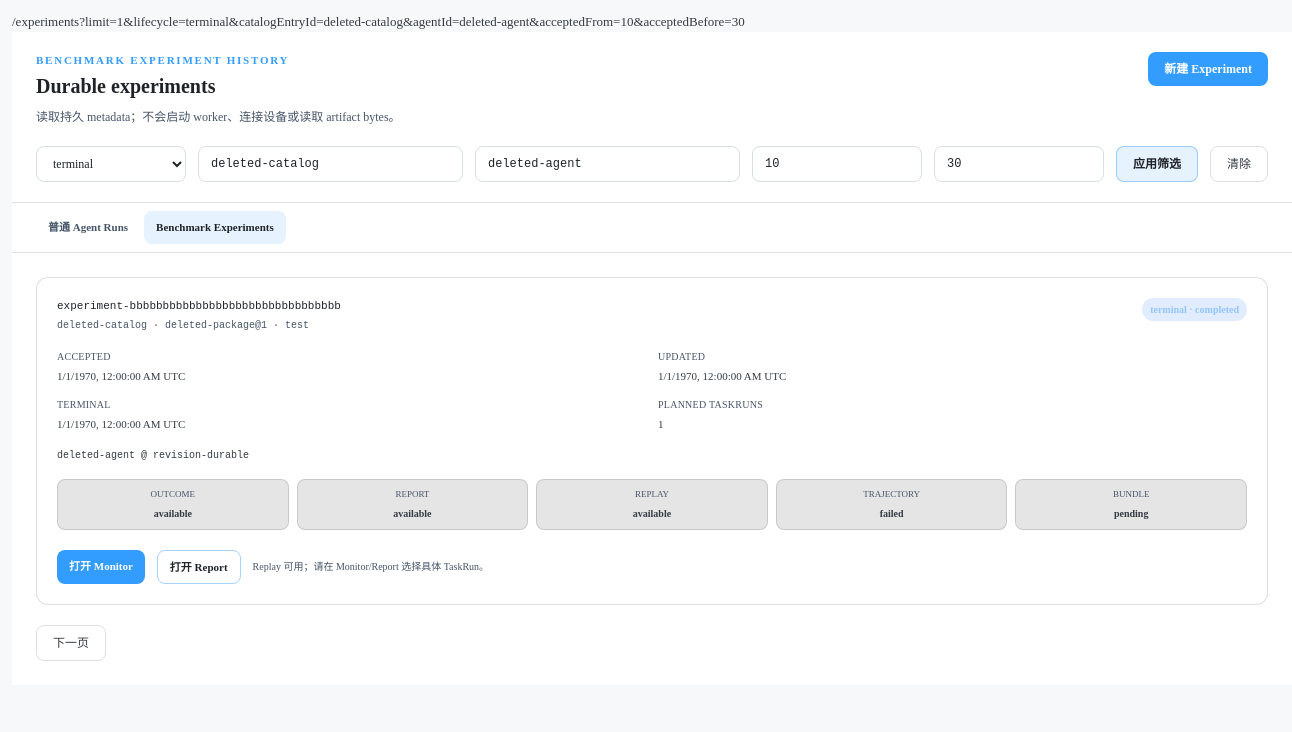
Test case: Experiment History page › reconstructs filters, preserves durable deleted identities, and paginates
Expected: the text "deleted-catalog" is shown, [79, 14, 745, 29]
Expected: the text "deleted-agent @ revision-durable" is shown, [57, 450, 249, 461]
Click the button "下一页" at (71, 643), box [36, 625, 106, 661]
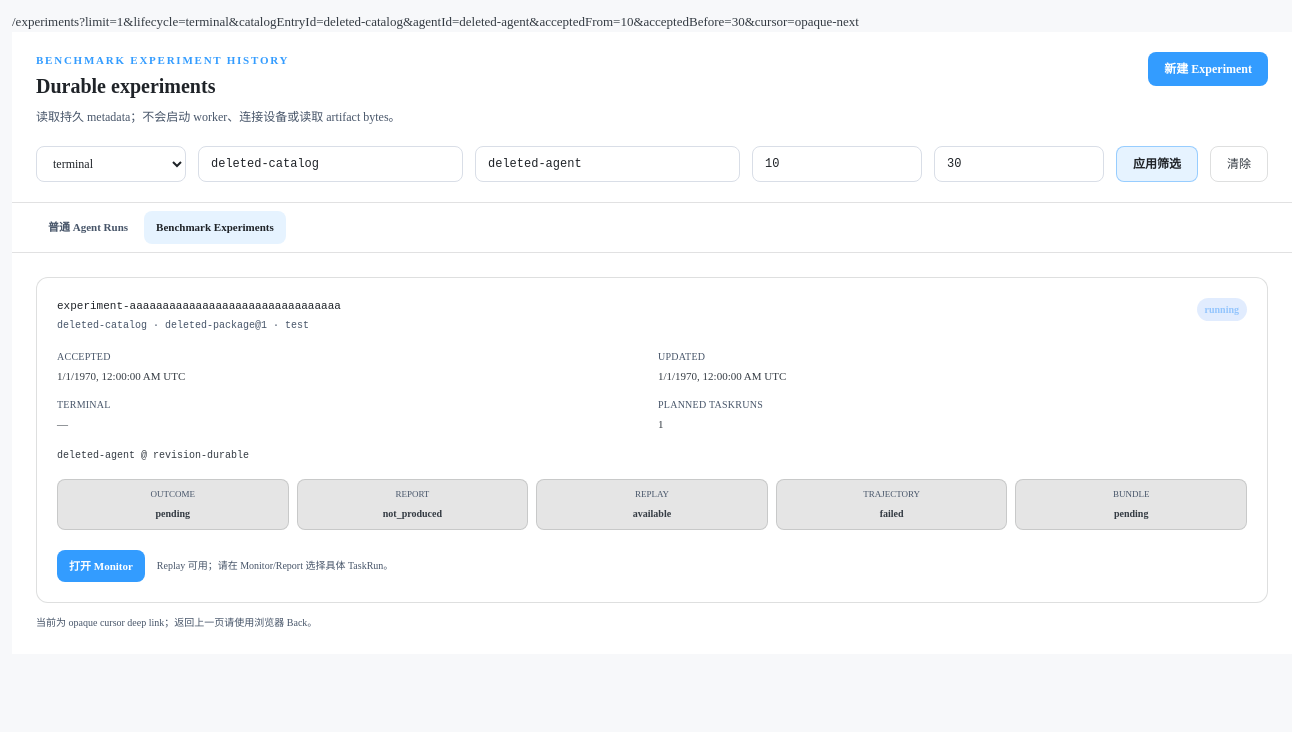
Result: the text named "location" shows "cursor=opaque-next" at [79, 14, 859, 29]
Result: the link "打开 Report" is gone
Result: the text "当前为 opaque cursor deep link；返回上一页请使用浏览器 Back。" is shown at [36, 617, 317, 628]
